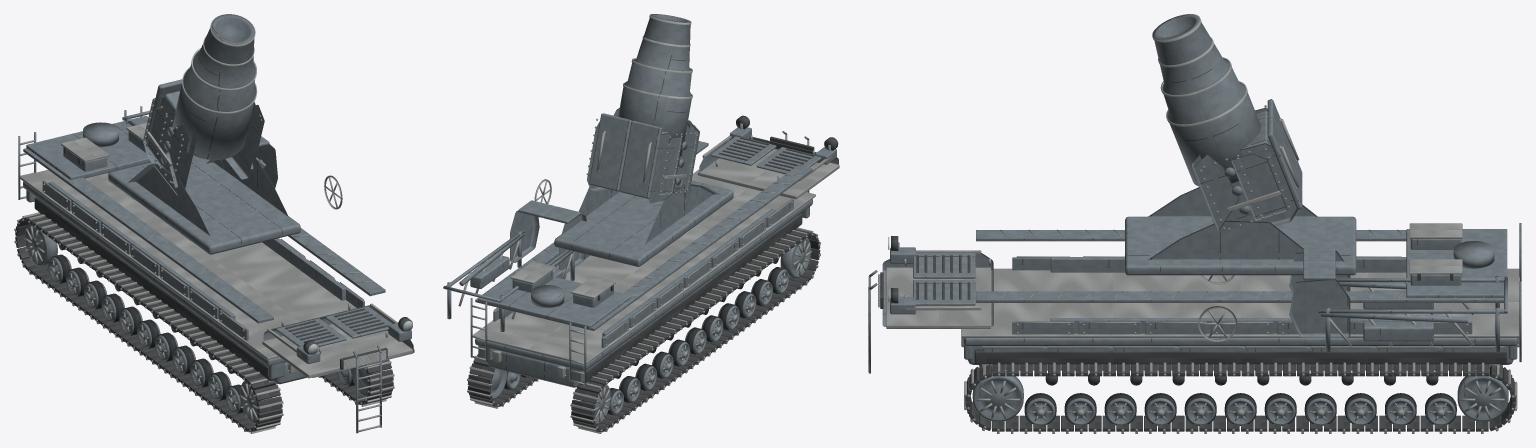
File: pgf-boundary.glb
The picture shows the model from 3 angles, left to right: view 1: azimuth 30°, elevation 25°; view 2: azimuth 150°, elevation 25°; view 3: azimuth 270°, elevation 25°; orthographic projection. The views are drawn at different scales.
Visible parts, largest first — view 1: chassis-cast-edge-steel-batch, carriage-graphite-painted-steel-batch, platform-graphite-painted-steel-batch, running-gear-panel-shadow-batch, barrel-tube-exterior-batch, chassis-graphite-painted-steel-batch, running-gear-cast-edge-steel-batch, running-gear-graphite-painted-steel-batch, cradle-graphite-painted-steel-batch, engine-cast-edge-steel-batch, engine-graphite-painted-steel-batch, chassis-panel-shadow-batch (+6 smaller); view 2: chassis-cast-edge-steel-batch, platform-graphite-painted-steel-batch, carriage-graphite-painted-steel-batch, running-gear-panel-shadow-batch, chassis-graphite-painted-steel-batch, cradle-graphite-painted-steel-batch, barrel-tube-exterior-batch, running-gear-cast-edge-steel-batch, mechanisms-graphite-painted-steel-batch, running-gear-graphite-painted-steel-batch, engine-graphite-painted-steel-batch, engine-cast-edge-steel-batch (+7 smaller); view 3: chassis-cast-edge-steel-batch, chassis-graphite-painted-steel-batch, carriage-graphite-painted-steel-batch, running-gear-panel-shadow-batch, platform-graphite-painted-steel-batch, running-gear-graphite-painted-steel-batch, barrel-tube-exterior-batch, mechanisms-graphite-painted-steel-batch, cradle-graphite-painted-steel-batch, chassis-panel-shadow-batch, running-gear-cast-edge-steel-batch, engine-graphite-painted-steel-batch (+7 smaller).
Boxes of the visible parts, box(x1,y1,x2,y2) form: chassis-cast-edge-steel-batch: box(20, 170, 364, 382); carriage-graphite-painted-steel-batch: box(108, 155, 300, 254); platform-graphite-painted-steel-batch: box(18, 106, 385, 323); running-gear-panel-shadow-batch: box(15, 214, 393, 432); barrel-tube-exterior-batch: box(172, 14, 256, 159); chassis-graphite-painted-steel-batch: box(23, 180, 364, 384); running-gear-cast-edge-steel-batch: box(14, 212, 394, 433); running-gear-graphite-painted-steel-batch: box(25, 223, 382, 424); cradle-graphite-painted-steel-batch: box(143, 79, 264, 195); engine-cast-edge-steel-batch: box(262, 303, 414, 432); engine-graphite-painted-steel-batch: box(263, 305, 413, 433); chassis-panel-shadow-batch: box(34, 197, 274, 380); chassis-cast-edge-steel-batch: box(472, 169, 815, 386); platform-graphite-painted-steel-batch: box(470, 141, 812, 385); carriage-graphite-painted-steel-batch: box(554, 180, 733, 266); running-gear-panel-shadow-batch: box(467, 229, 820, 432); chassis-graphite-painted-steel-batch: box(475, 199, 812, 387); cradle-graphite-painted-steel-batch: box(587, 108, 699, 205); barrel-tube-exterior-batch: box(618, 14, 692, 156); running-gear-cast-edge-steel-batch: box(467, 227, 820, 433); mechanisms-graphite-painted-steel-batch: box(443, 200, 586, 331); running-gear-graphite-painted-steel-batch: box(478, 238, 811, 424); engine-graphite-painted-steel-batch: box(699, 123, 838, 198); engine-cast-edge-steel-batch: box(698, 135, 839, 199); chassis-cast-edge-steel-batch: box(961, 256, 1519, 370); chassis-graphite-painted-steel-batch: box(963, 257, 1517, 364); carriage-graphite-painted-steel-batch: box(1125, 187, 1356, 275); running-gear-panel-shadow-batch: box(965, 364, 1516, 431); platform-graphite-painted-steel-batch: box(976, 223, 1521, 362); running-gear-graphite-painted-steel-batch: box(972, 370, 1508, 425); barrel-tube-exterior-batch: box(1153, 14, 1260, 186); mechanisms-graphite-painted-steel-batch: box(1289, 248, 1507, 352); cradle-graphite-painted-steel-batch: box(1191, 99, 1302, 240); chassis-panel-shadow-batch: box(974, 349, 1506, 364); running-gear-cast-edge-steel-batch: box(964, 362, 1517, 433); engine-graphite-painted-steel-batch: box(868, 242, 993, 373).
Bounding box in the file's own units: 5.07 × 8.65 × 13.57.
6 materials, 6 textured.
